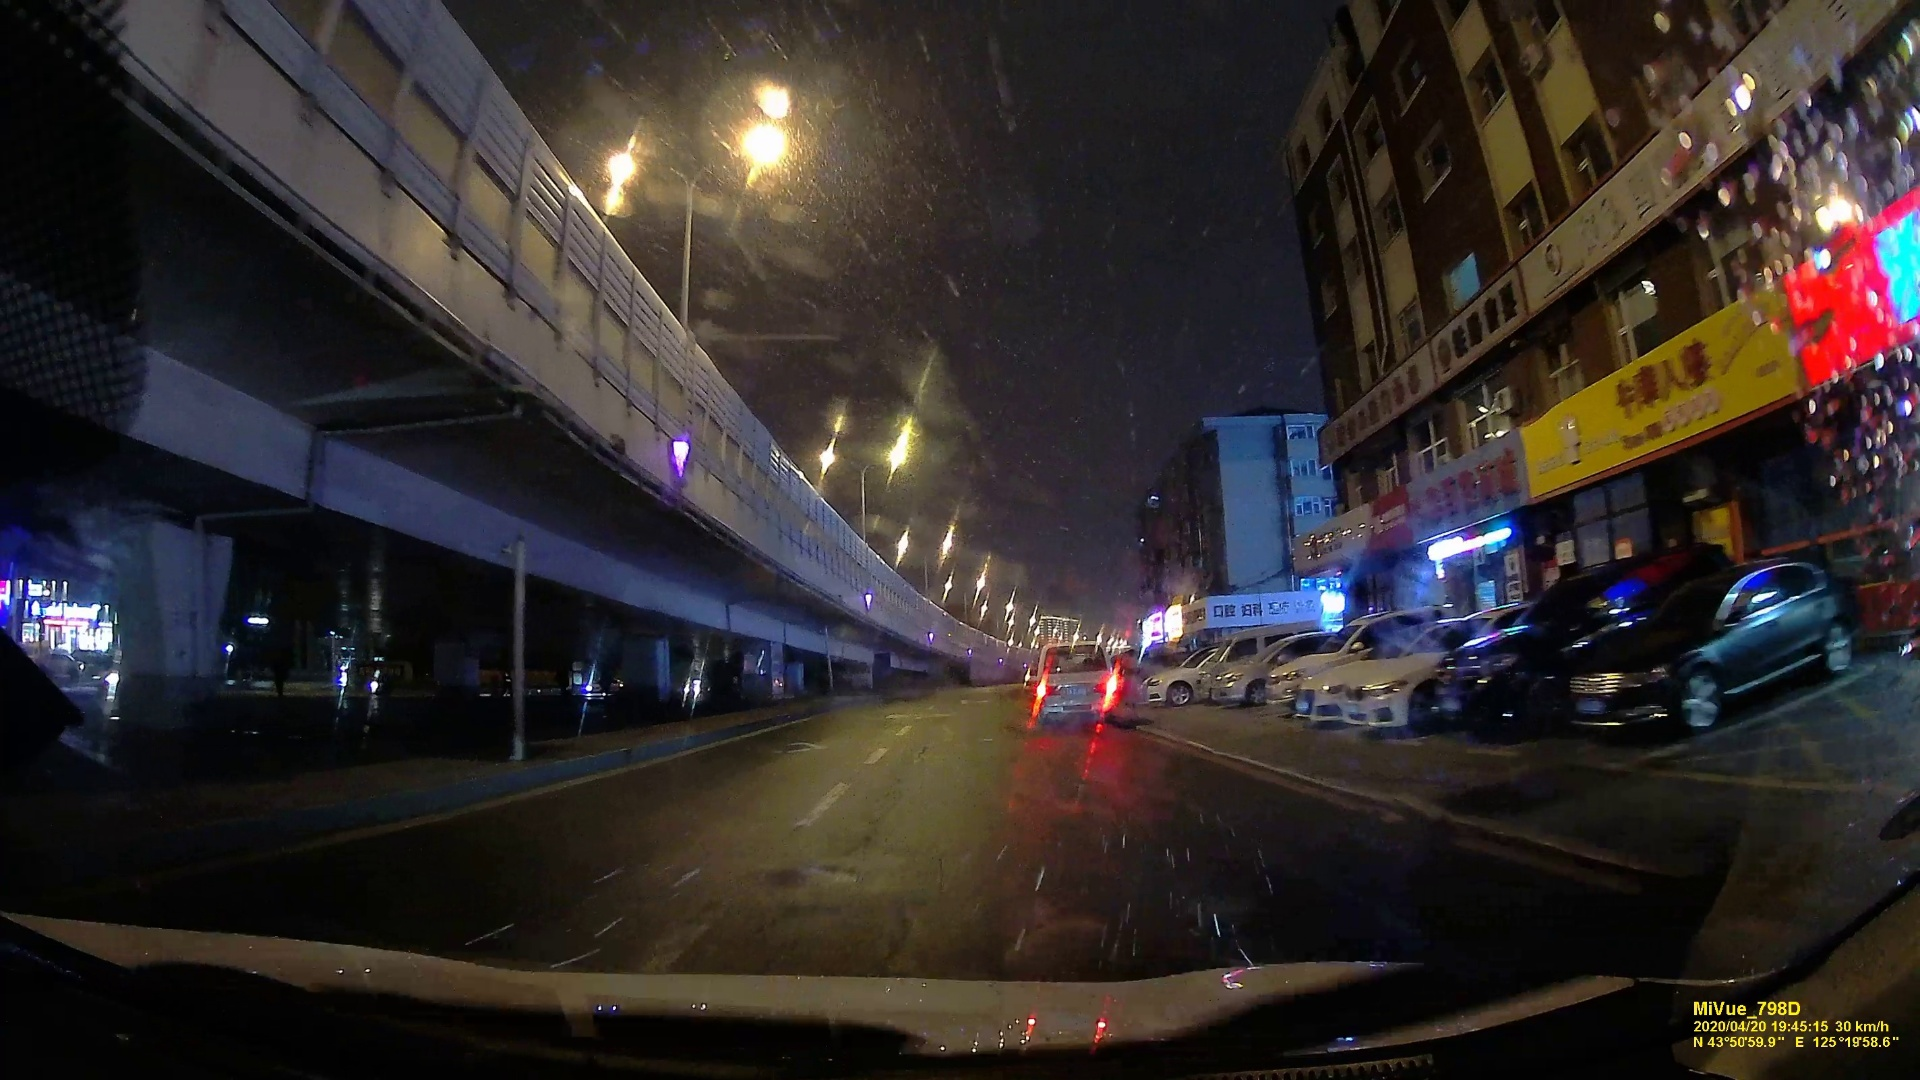minibus: (1035, 640, 1112, 723)
vehicle: (1563, 560, 1849, 728)
